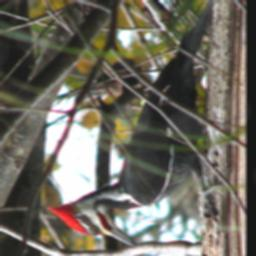Woodpecker: (47, 0, 223, 248)
